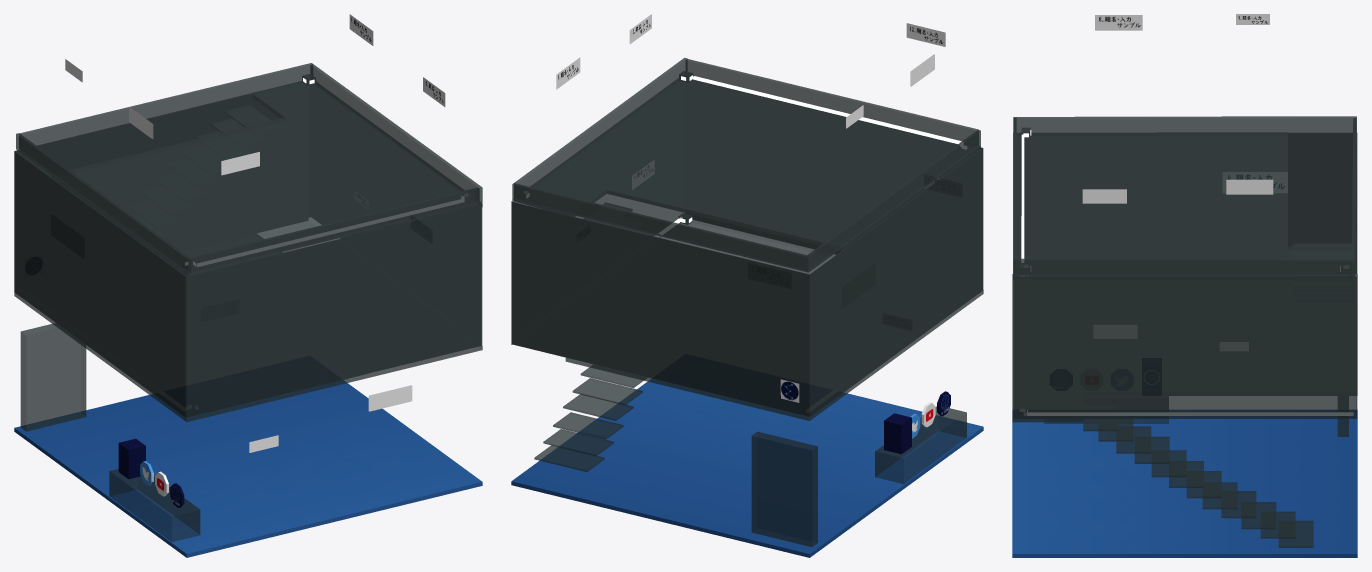
The model's file is 1G_DCL_gltf.gltf.
The picture shows the model from 3 angles, left to right: view 1: azimuth 30°, elevation 25°; view 2: azimuth 150°, elevation 25°; view 3: azimuth 270°, elevation 25°; orthographic projection.
Visible parts, largest first — view 1: 1.ガラス壁, 3.床, 5.ガラス支え, 4.ガラス階段, ガラスオブジェ, 題名入力, 発行体, スピーカー, ロゴ_link; view 2: 1.ガラス壁, 3.床, 5.ガラス支え, 4.ガラス階段, ガラスオブジェ, 題名入力, 発行体, スピーカー, ロゴ_link; view 3: 3.床, 1.ガラス壁, 5.ガラス支え, 4.ガラス階段, 題名入力, 発行体, ガラスオブジェ.
Part boxes in pixels (x1=…): 1.ガラス壁: x1=14, y1=83, x2=482, y2=417; 3.床: x1=14, y1=81, x2=482, y2=557; 5.ガラス支え: x1=16, y1=63, x2=482, y2=431; 4.ガラス階段: x1=114, y1=104, x2=280, y2=252; ガラスオブジェ: x1=109, y1=469, x2=200, y2=541; 題名入力: x1=65, y1=14, x2=445, y2=452; 発行体: x1=197, y1=199, x2=464, y2=266; スピーカー: x1=118, y1=438, x2=145, y2=479; ロゴ_link: x1=140, y1=461, x2=184, y2=507; 1.ガラス壁: x1=511, y1=80, x2=983, y2=416; 3.床: x1=511, y1=78, x2=983, y2=557; 5.ガラス支え: x1=512, y1=57, x2=980, y2=547; 4.ガラス階段: x1=534, y1=202, x2=661, y2=471; ガラスオブジェ: x1=875, y1=406, x2=966, y2=483; 題名入力: x1=556, y1=14, x2=945, y2=189; 発行体: x1=655, y1=76, x2=961, y2=237; スピーカー: x1=884, y1=413, x2=911, y2=454; ロゴ_link: x1=910, y1=391, x2=950, y2=438; 3.床: x1=1012, y1=133, x2=1357, y2=557; 1.ガラス壁: x1=1013, y1=133, x2=1357, y2=418; 5.ガラス支え: x1=1013, y1=116, x2=1356, y2=436; 4.ガラス階段: x1=1083, y1=243, x2=1352, y2=547; 題名入力: x1=1082, y1=14, x2=1287, y2=350; 発行体: x1=1021, y1=134, x2=1353, y2=415; ガラスオブジェ: x1=1044, y1=396, x2=1168, y2=423.
Size of what is drawn, in the model's own units: 14.9 by 19.35 by 15.03.
5 materials, 3 textured.
